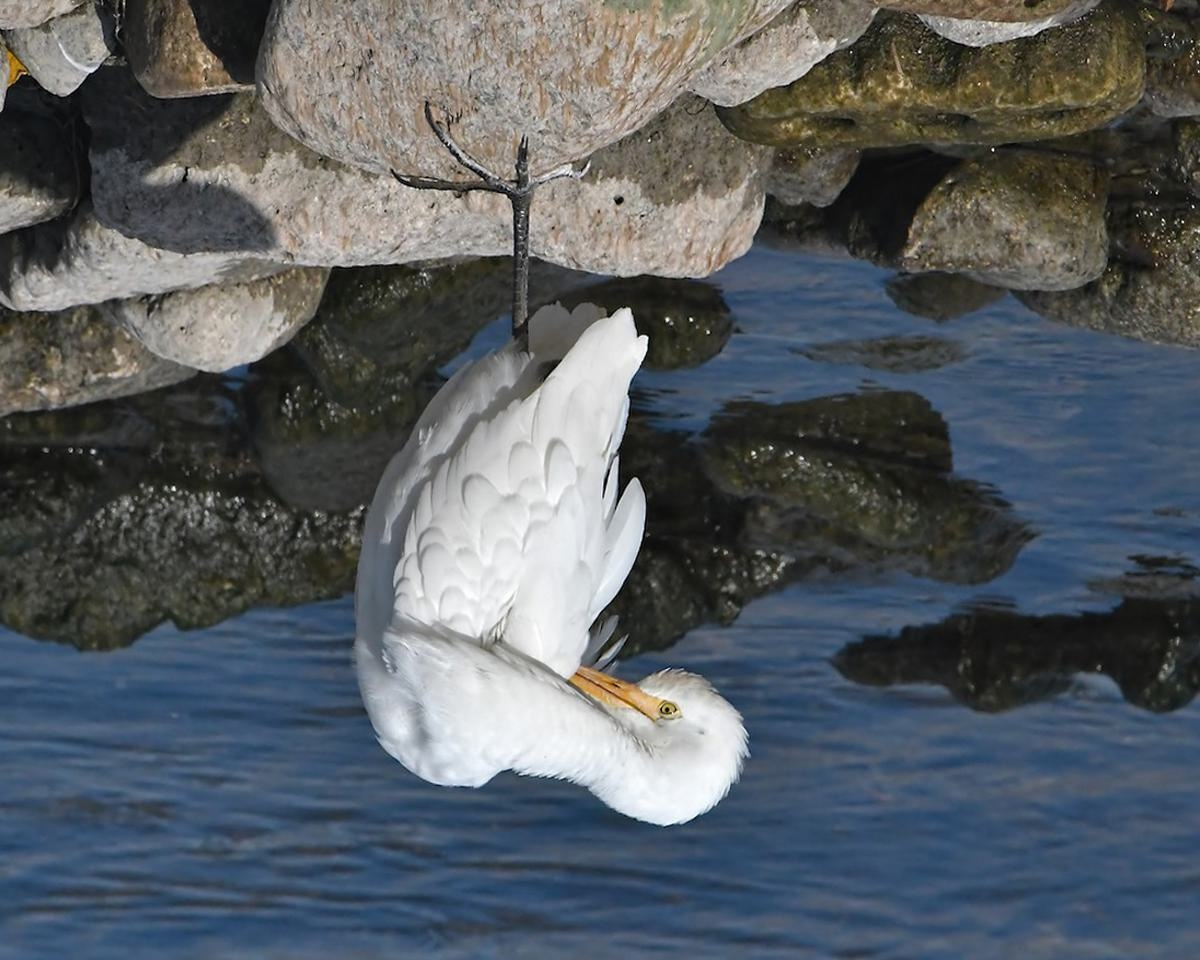egret: (339, 274, 772, 848)
